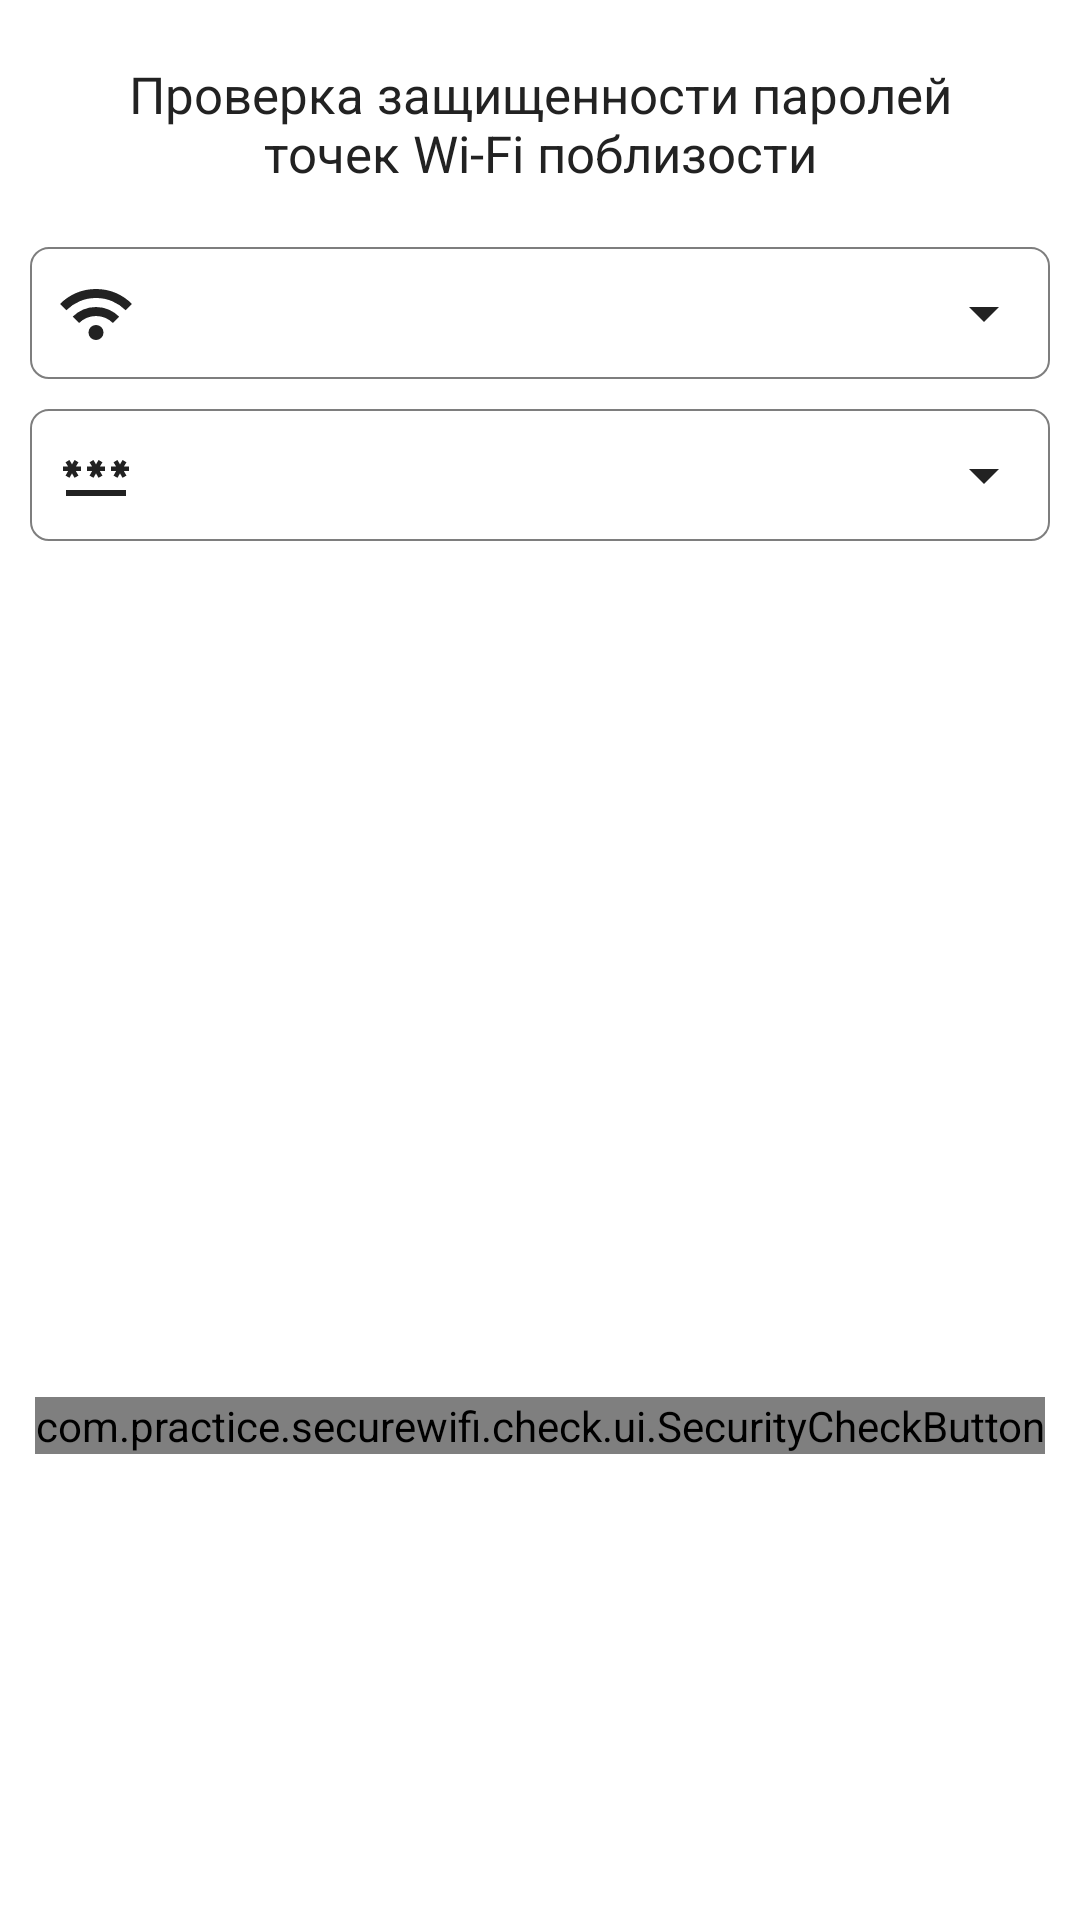

Where to tap for icons on this 1080 x 1920 app screen, as (x,y):
Dropdown arrow icon: (984,314), (984,476)
Password Icon: (96,478)
Wifi Icon: (96,314)
